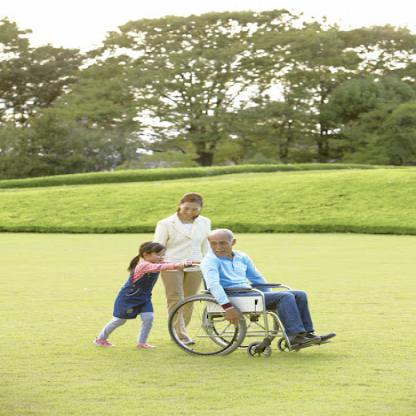wheelchair: (170, 227, 342, 360)
